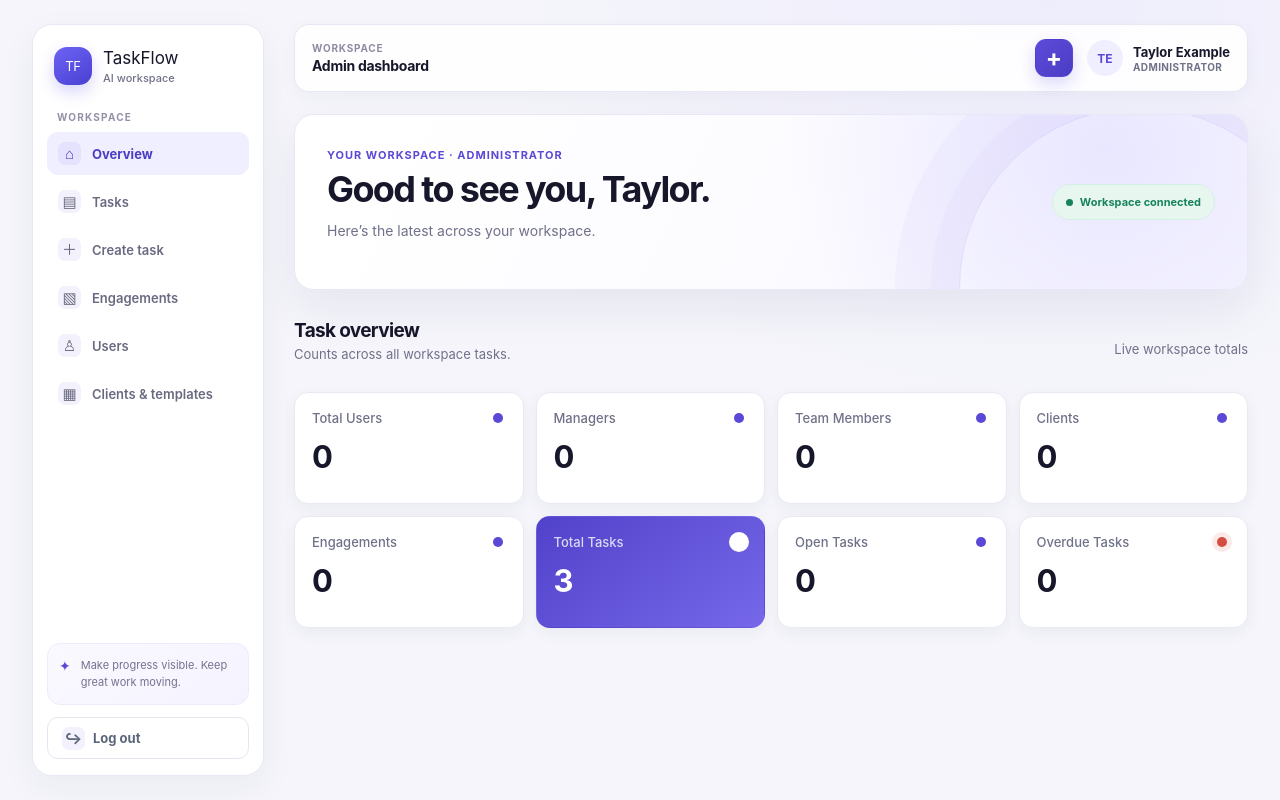
Test: TasksPage role-based workspace › allows only admins to access user role management
This screenshot has width=1280, height=800.
Click the link "♙ Users" at [93, 346], box [58,334,129,357]
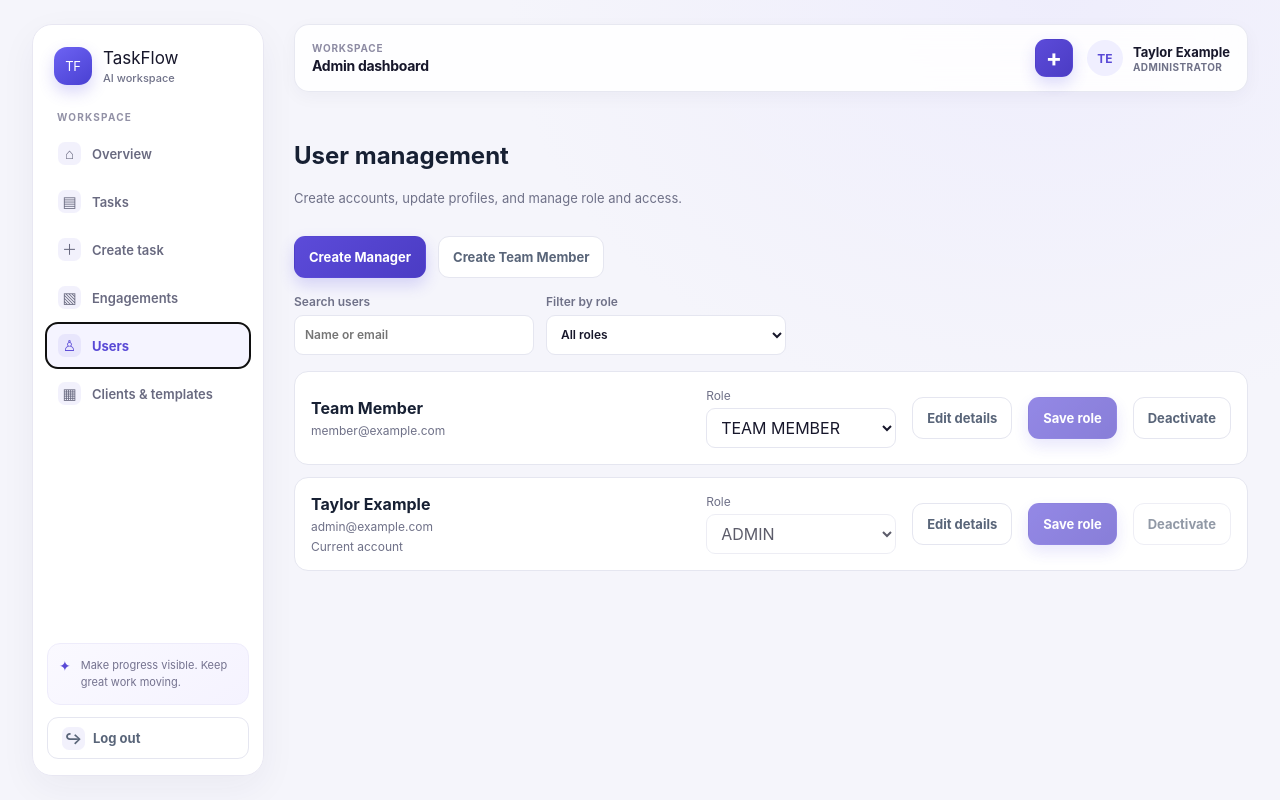
Result: the heading "User management" is shown at [294,141,509,170]
Select "MANAGER" in the dropdown named "Role for member@example.com" at [801, 428], box [706,408,896,448]
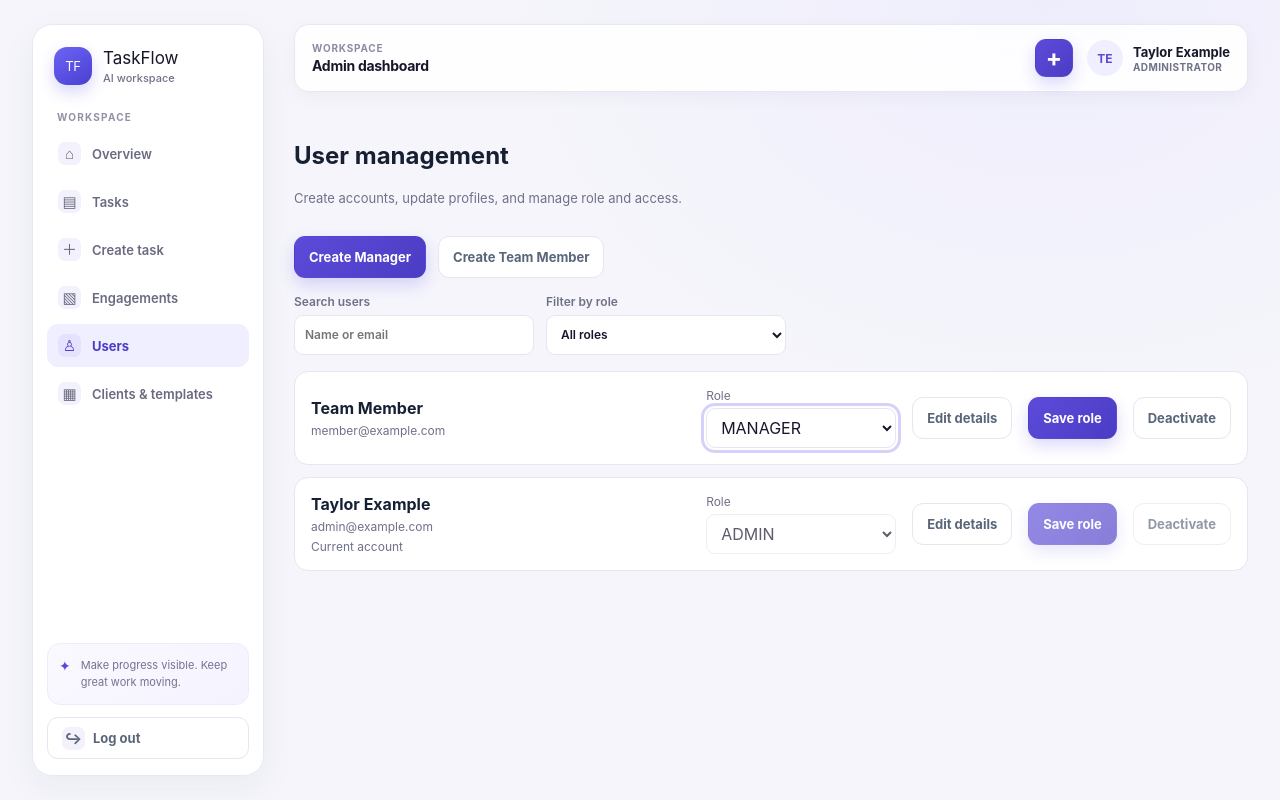
Click the button "Save role" in the row of "member@example.com" at [1072, 418], box [1028,397,1117,439]
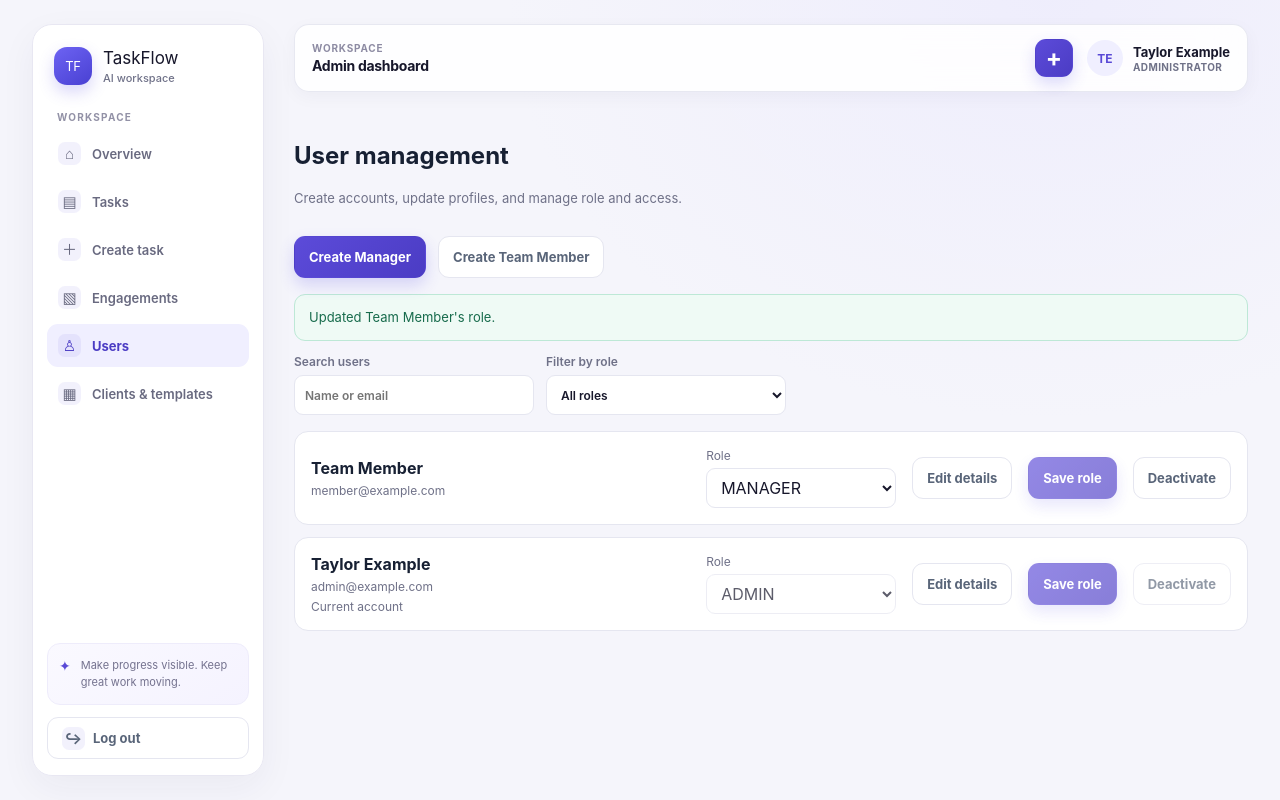
Result: the dropdown named "Role for admin@example.com" is disabled at [706,574,896,614]
Result: the button "Deactivate" in the row of "admin@example.com" is disabled at [1133,563,1231,605]
Result: the message reads "Updated Team Member's role." at [309,309,495,325]
